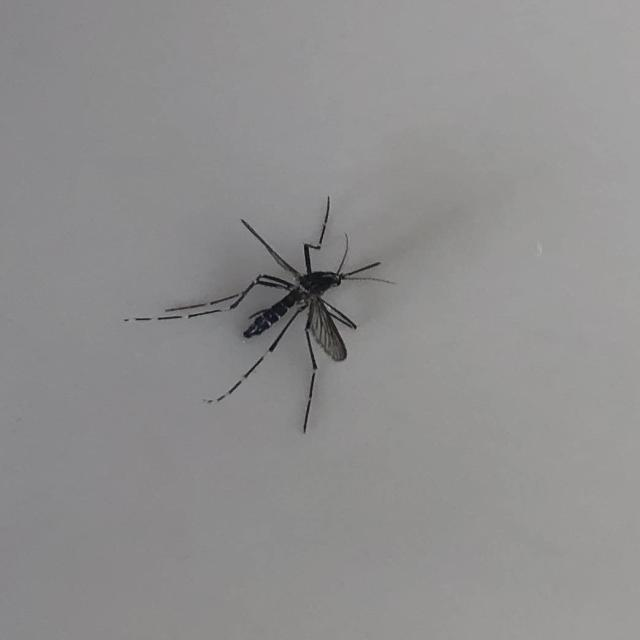albopictus: (126, 188, 405, 432)
